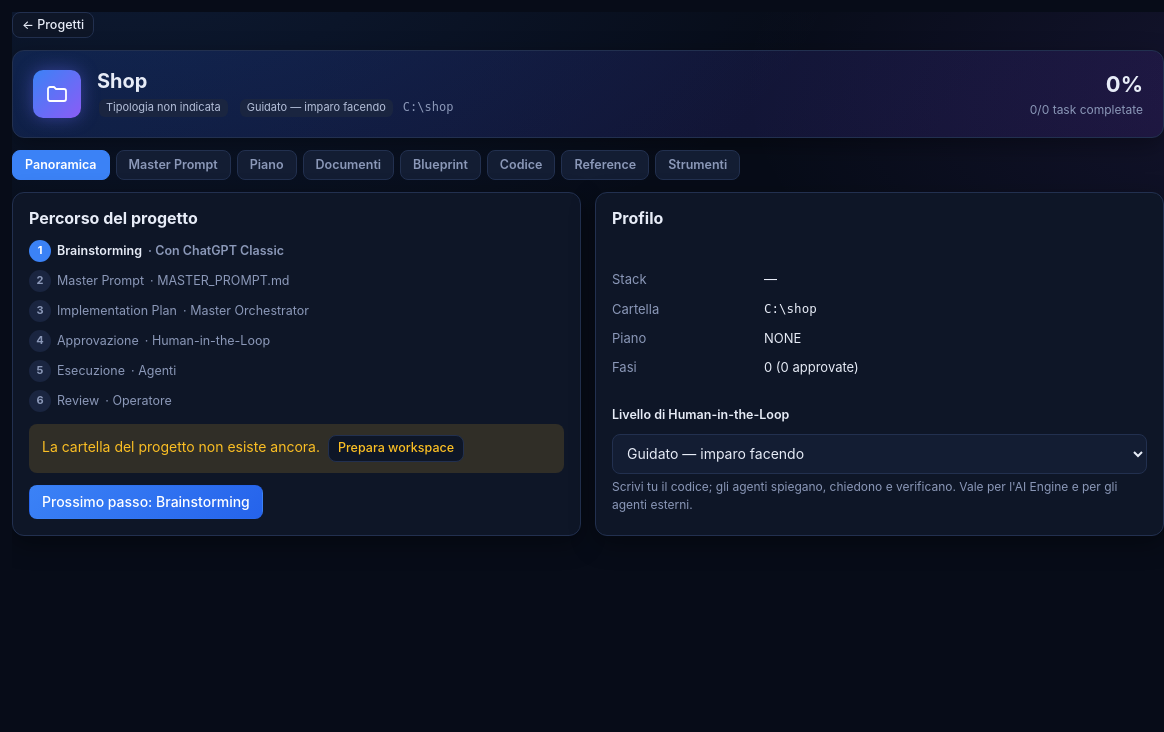
Test: Piano — a generation can be cancelled (TD-43) › stops a running generation and says it was cancelled, not that it failed
The image size is (1164, 732).
Click the tab "Piano".
click(267, 165)  # box [237,150,296,180]
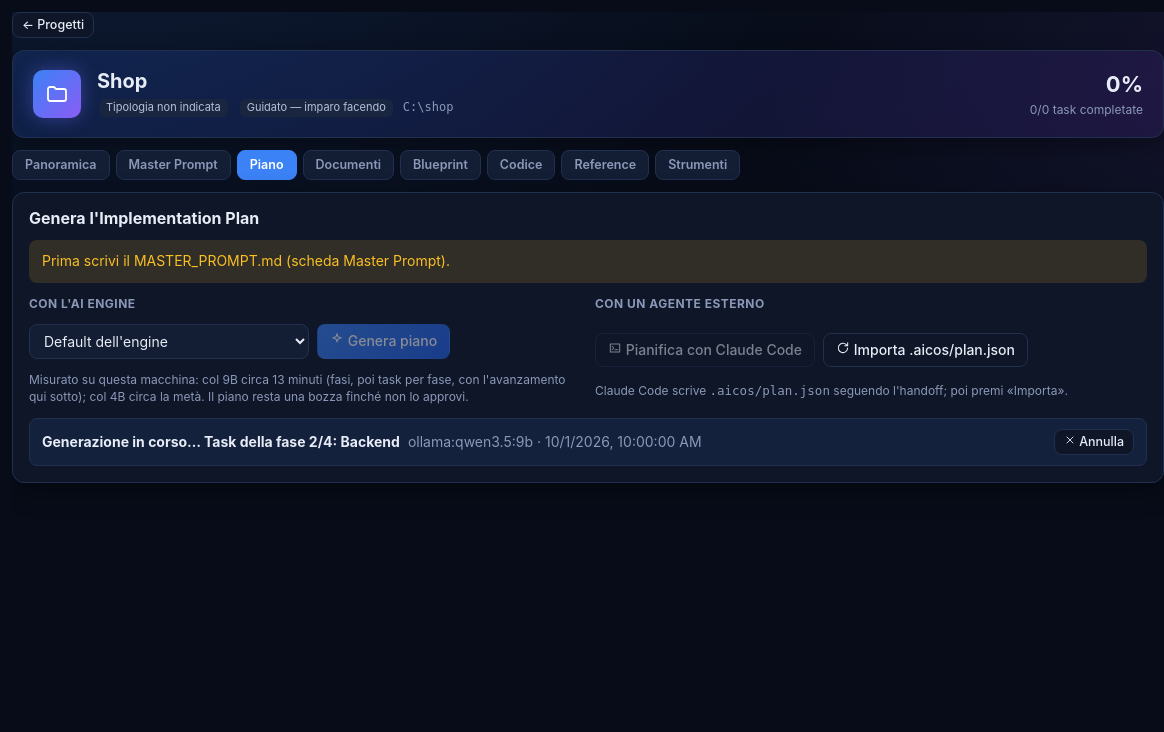
Expected: the text "Generazione in corso… Task della fase 2/4: Backend" is shown, [42,432,400,452]
Click the button "Annulla".
click(1094, 442)  # box [1054,429,1134,455]
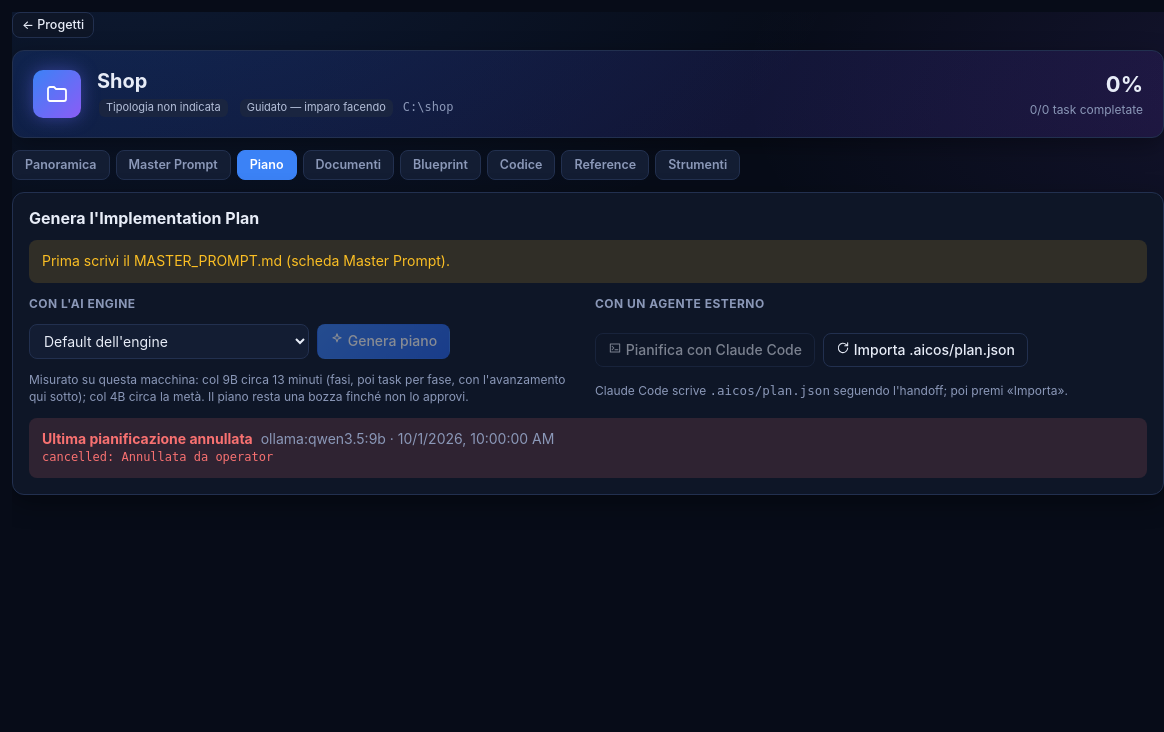
Expected: the text "Ultima pianificazione annullata" is shown, [42,429,253,449]
Expected: the text "cancelled: Annullata da operator" is shown, [42,450,273,464]
